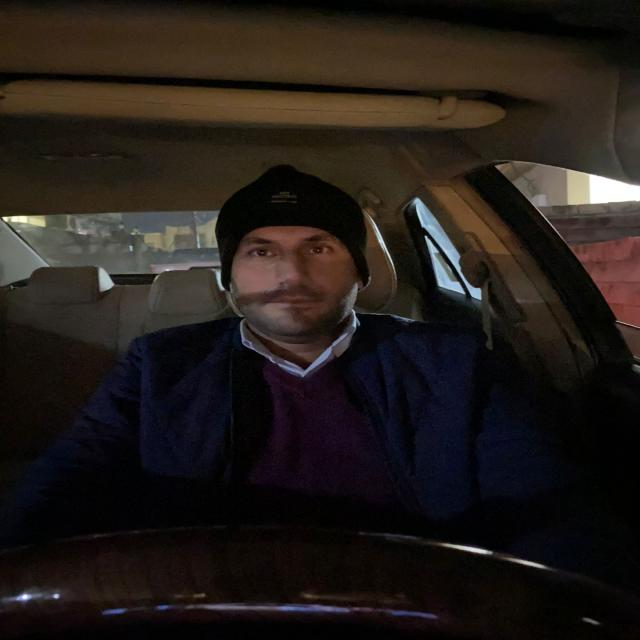person: (214, 163, 370, 342)
